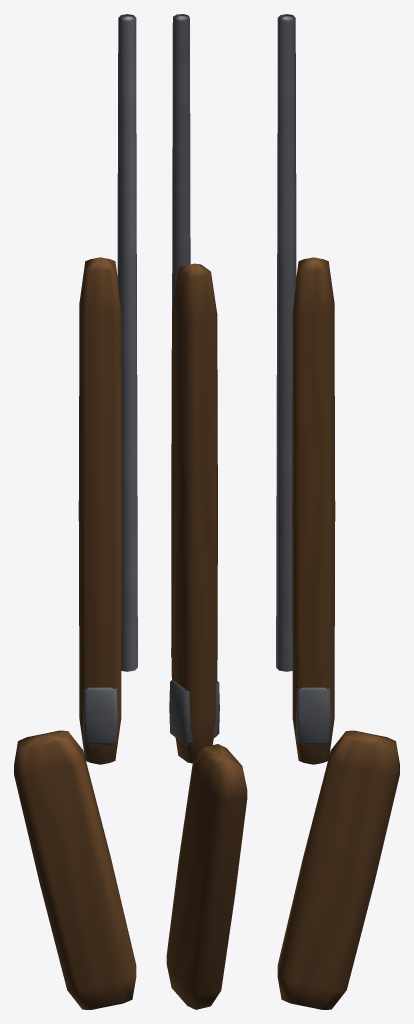
Rendered from arquebuse.glb.
The picture shows the model from 3 angles, left to right: view 1: azimuth 90°, elevation 25°; view 2: azimuth 210°, elevation 25°; view 3: azimuth 270°, elevation 25°; orthographic projection.
Visible parts, largest first — view 1: arquebuse; view 2: arquebuse; view 3: arquebuse.
Boxes of the visible parts, x1,y1,x2,y2 form: arquebuse: (14,14,137,1009); arquebuse: (166,14,247,1009); arquebuse: (276,14,399,1009).
Bounding box in the file's own units: 0.0488 × 1.22 × 0.1383.
Materials: 1 (1 with a texture image).
